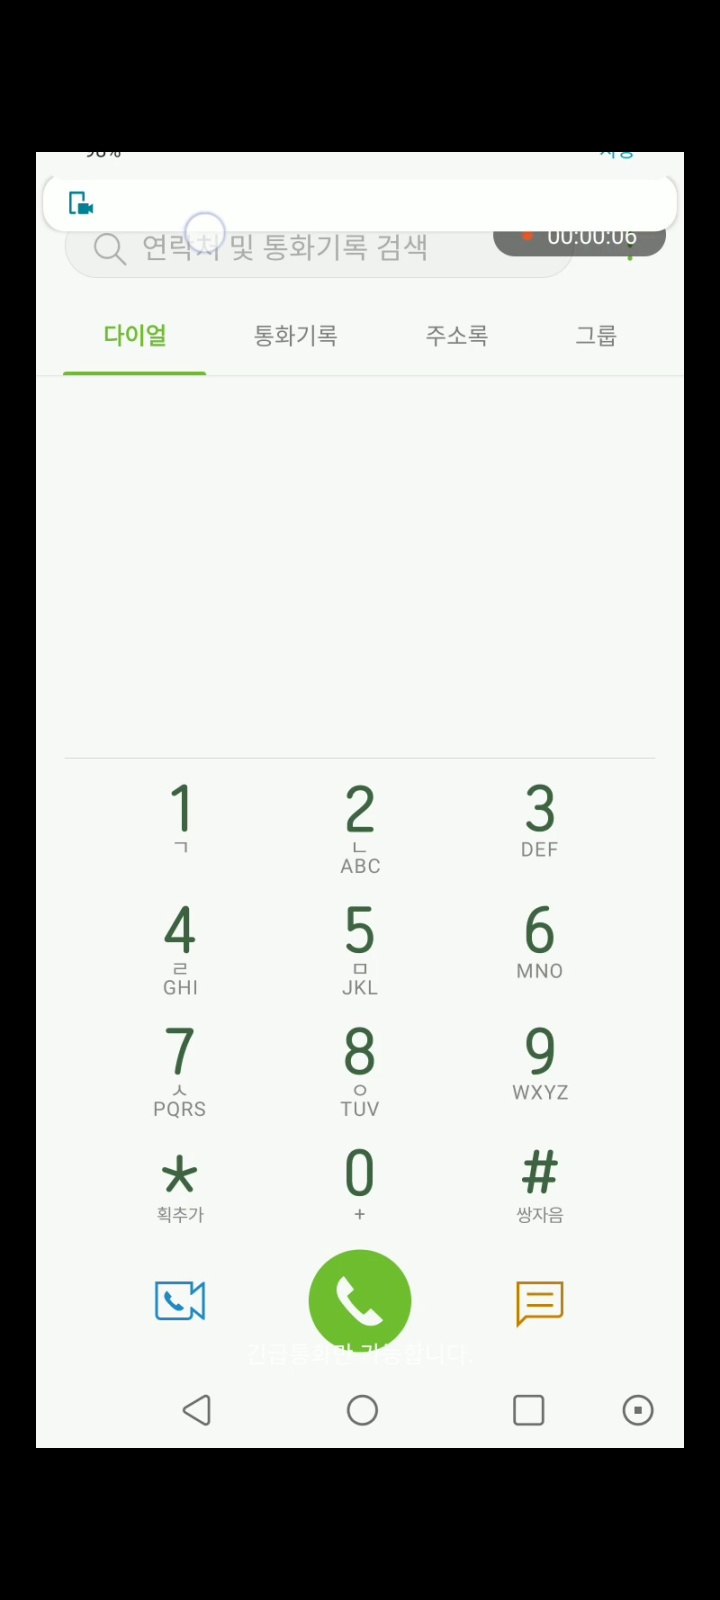Cursor: (183, 209, 228, 255)
